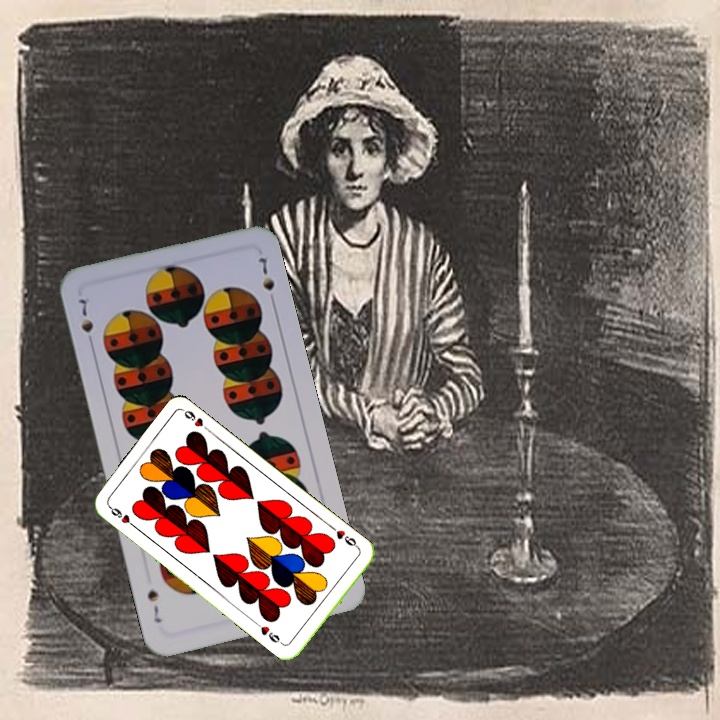H9: (328, 523, 362, 552), (105, 502, 139, 531)
S7: (74, 292, 96, 350)
